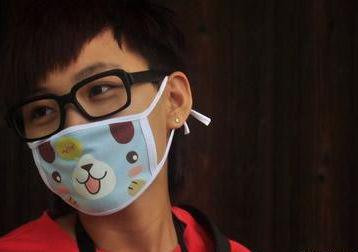OK: (16, 59, 167, 210)
